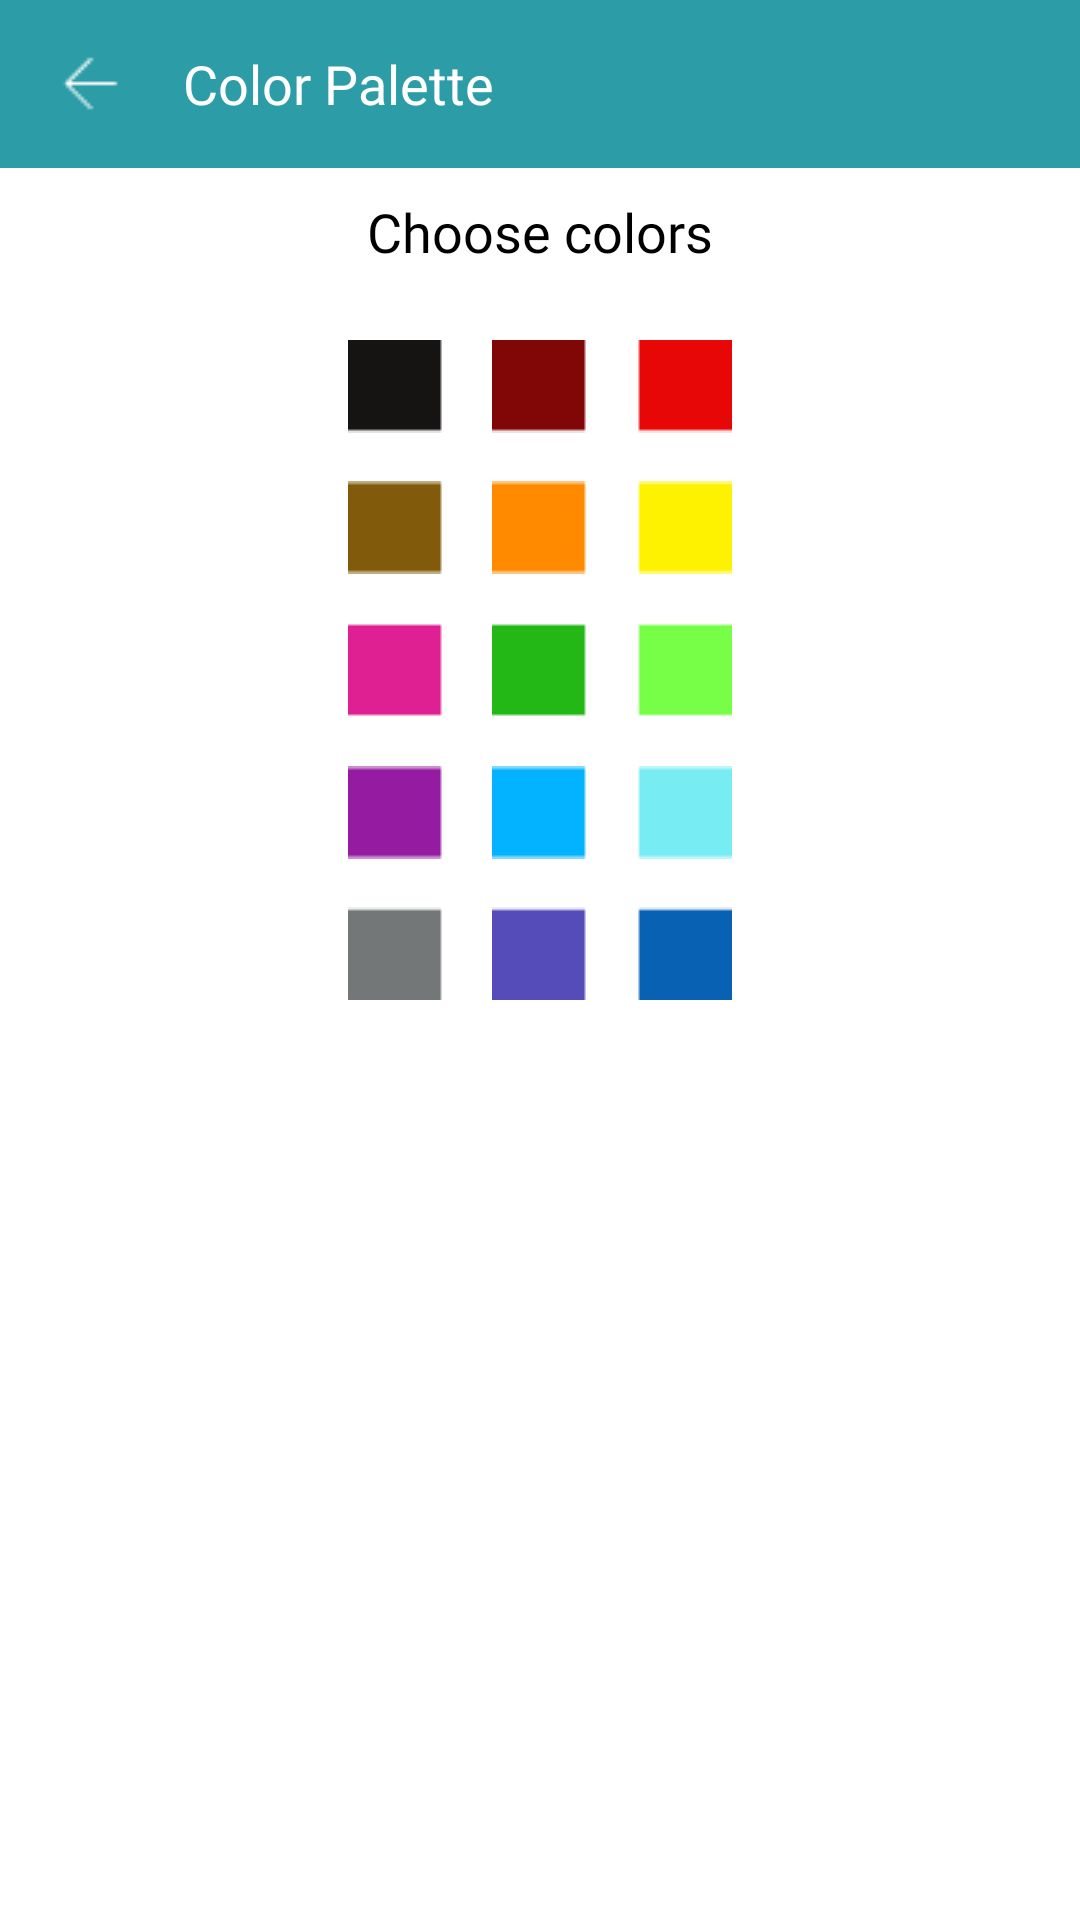

Icons on this 1080 x 1920 Android screen, each with its box as (x1=x1, y1=y1, x2=x2, y2=y2):
fback: (x1=63, y1=57, x2=118, y2=110)
